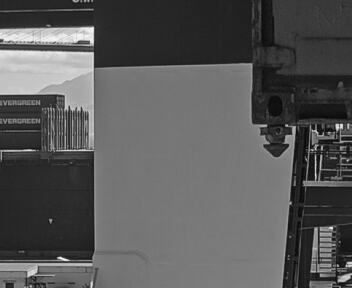twist_lock_2: (240, 120, 286, 163)
